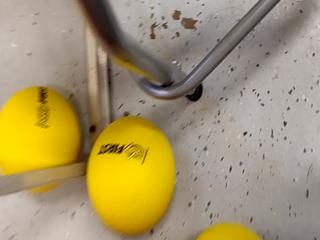power_cell: (82, 115, 179, 238), (1, 77, 85, 194), (188, 222, 268, 240)
